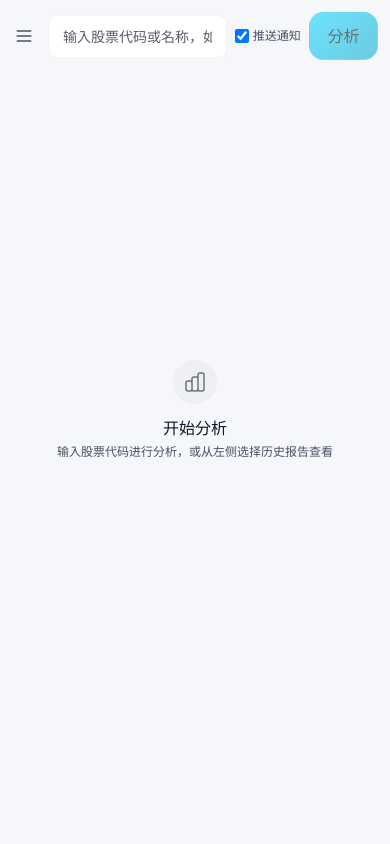
Scenario: HomePage › opens and closes the mobile history drawer without changing dashboard styles
The image size is (390, 844).
Click the button titled "历史记录" at [24, 36], box [8,20,40,52]
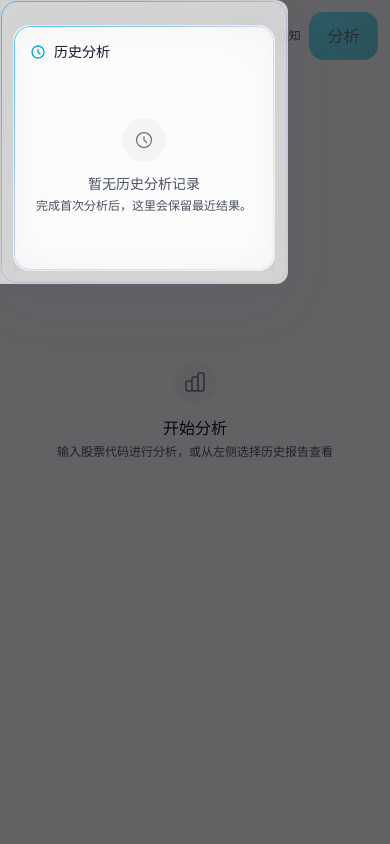
Result: the element with class "home-mobile-overlay" is shown
Result: the element with class "dashboard-card" is shown at [0,0,288,284]
Click the element with class "z-40" at [195, 422], box [0,0,389,843]
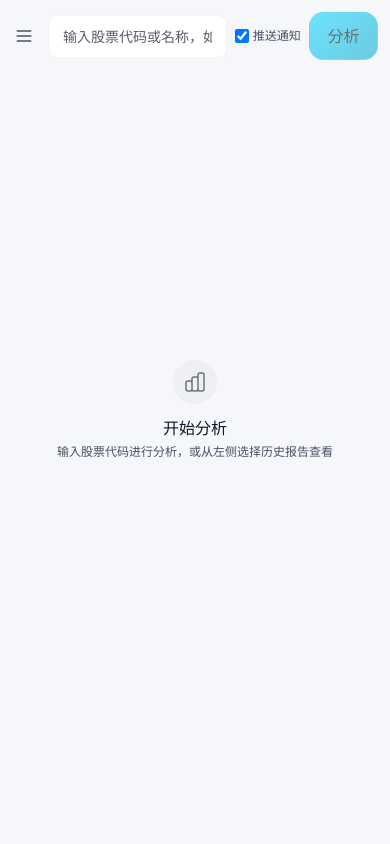
Result: the element with class "home-mobile-overlay" is gone
